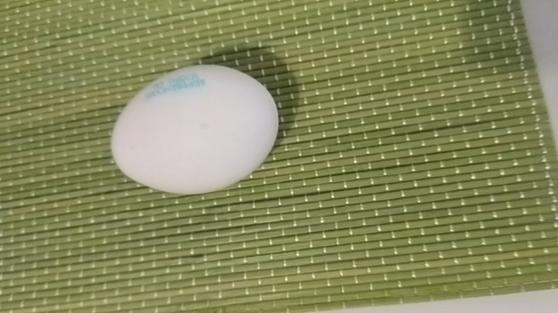egg: (110, 67, 281, 195)
